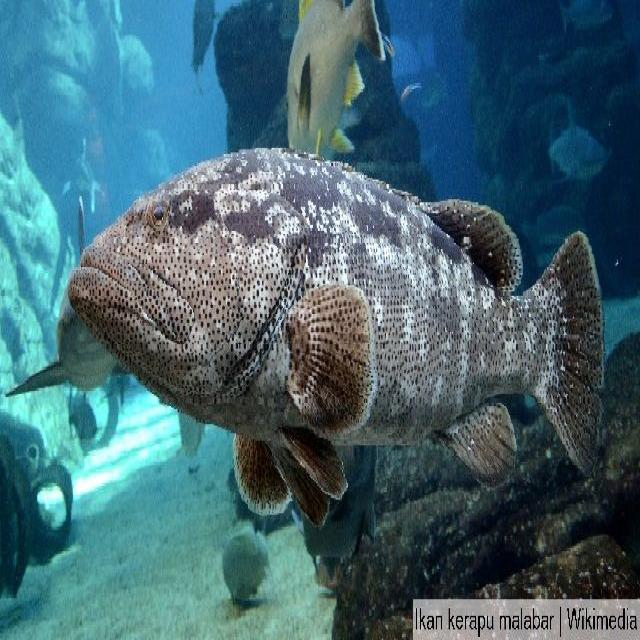grouper: (63, 138, 611, 522)
